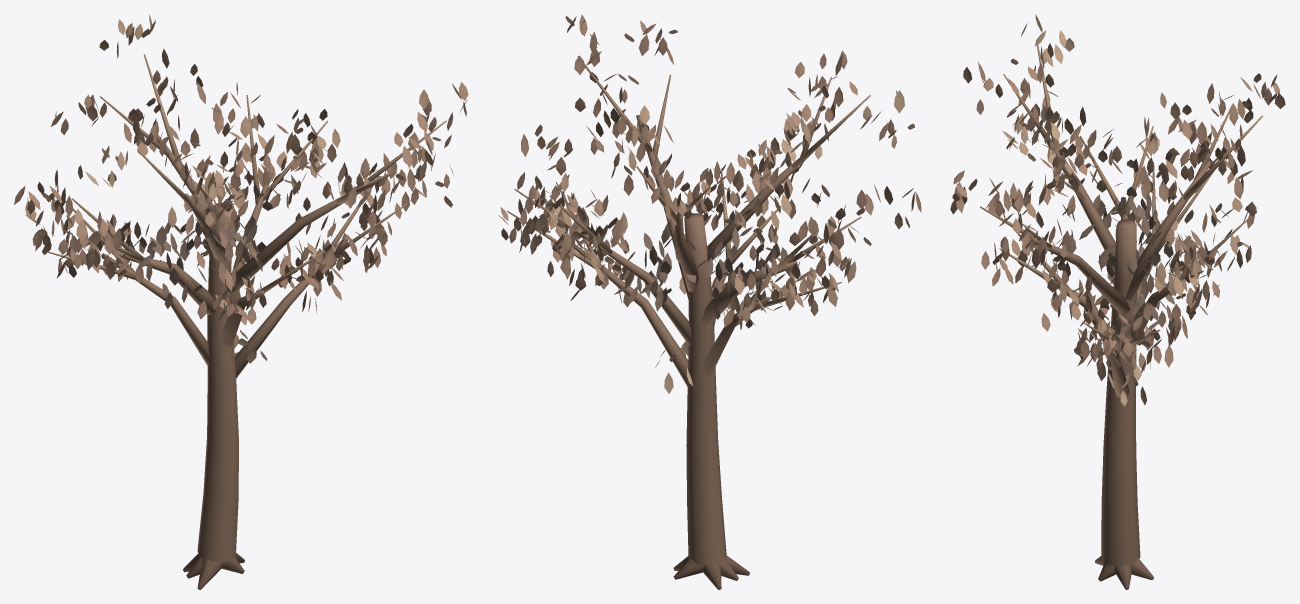
File: tree_3d_05_copper.glb
The picture shows the model from 3 angles, left to right: view 1: azimuth 30°, elevation 25°; view 2: azimuth 150°, elevation 25°; view 3: azimuth 270°, elevation 25°; orthographic projection.
Parts seen in each view (by area): view 1: tree_3d_05_copper_foliage, tree_3d_05_copper_wood; view 2: tree_3d_05_copper_foliage, tree_3d_05_copper_wood; view 3: tree_3d_05_copper_foliage, tree_3d_05_copper_wood.
Part boxes in pixels (bbox=[...]): tree_3d_05_copper_foliage: bbox=[14, 14, 468, 363]; tree_3d_05_copper_wood: bbox=[48, 54, 446, 589]; tree_3d_05_copper_foliage: bbox=[498, 14, 921, 393]; tree_3d_05_copper_wood: bbox=[507, 56, 870, 589]; tree_3d_05_copper_foliage: bbox=[950, 14, 1285, 406]; tree_3d_05_copper_wood: bbox=[980, 40, 1262, 589].
Size of the model in its own units: 13.05 by 16.65 by 10.14.
